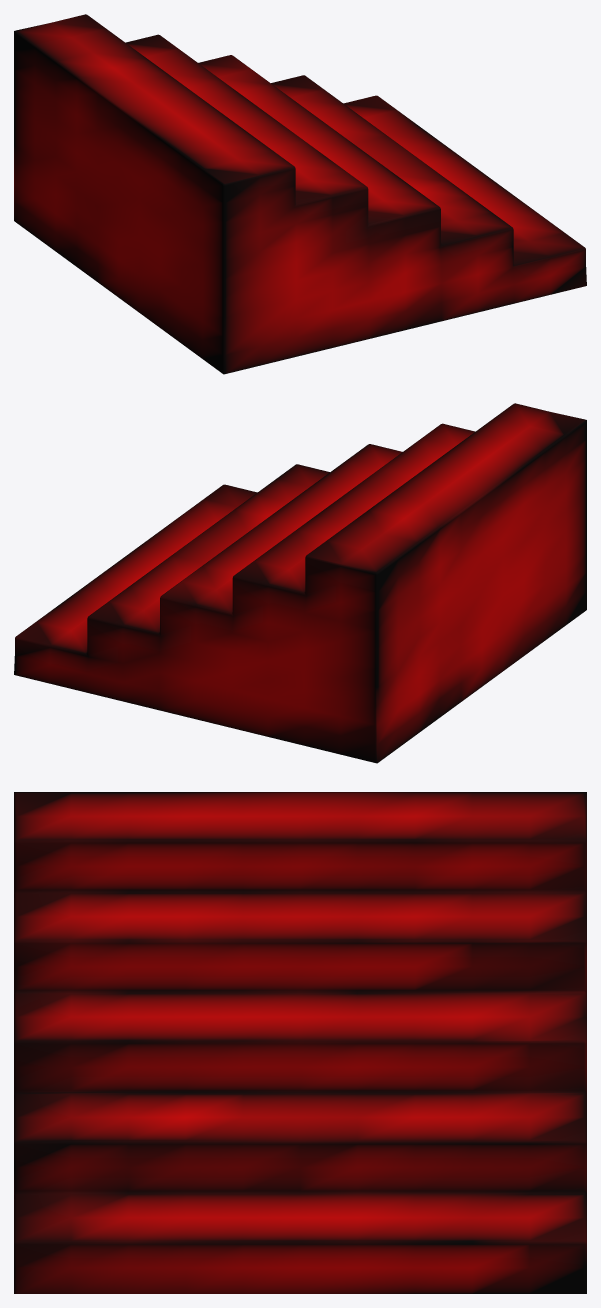
Rendered from stairs_2x1.fbx.
3 views of the same model, one above another, from view 1: azimuth 30°, elevation 25°; view 2: azimuth 150°, elevation 25°; view 3: azimuth 270°, elevation 25° (orthographic). The views are drawn at different scales.
Parts seen in each view (by area): view 1: stairs_2x1; view 2: stairs_2x1; view 3: stairs_2x1.
Boxes of the visible parts, x1=… form: stairs_2x1: x1=14, y1=14, x2=586, y2=374; stairs_2x1: x1=14, y1=403, x2=586, y2=763; stairs_2x1: x1=14, y1=792, x2=586, y2=1293.
Bounding box in the file's own units: 2 × 1 × 2.
